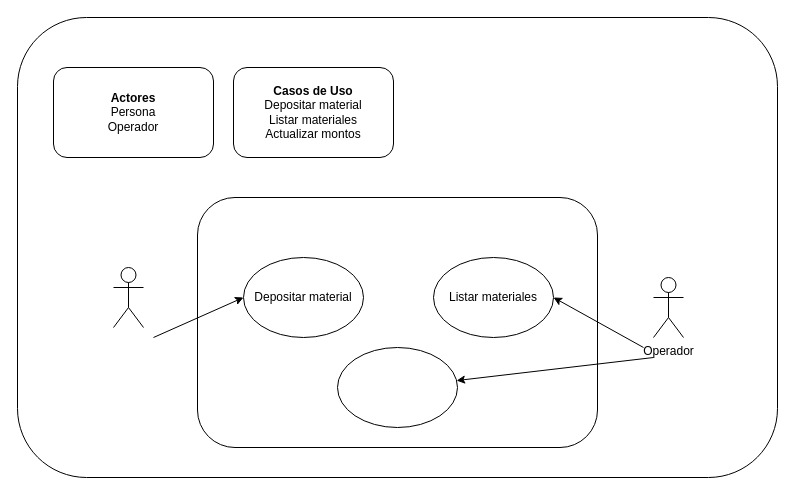
This 795x495 diagram has some shape labels left out. Here are the shapes that lost their labels. From the top down, the centre of each, then its label:
At (x=128, y=297): "Persona".
At (x=397, y=387): "Actualizar montos".
